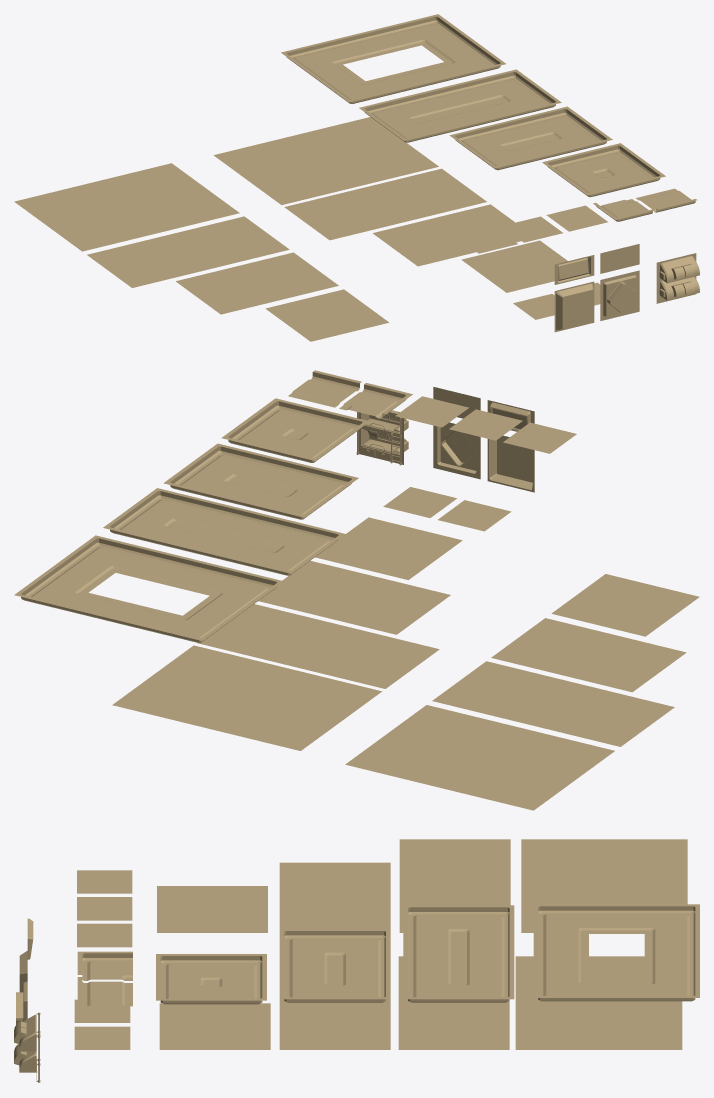
File: Bedroom.fbx
The picture shows the model from 3 angles, top to bottom: view 1: azimuth 30°, elevation 25°; view 2: azimuth 150°, elevation 25°; view 3: azimuth 270°, elevation 25°; orthographic projection. The views are drawn at different scales.
Visible parts, largest first — view 1: BR_v9_5, BR_v8_5, BR_v6_6, BR_v6_5, BR_v9_4, BR_v8_4, BR_v6_4, BR_v9_3, BR_v8_3, BR_v6_3, BR_v9_2, BR_v8_2 (+12 smaller); view 2: BR_v8_5, BR_v9_5, BR_v6_6, BR_v6_5, BR_v9_4, BR_v8_4, BR_v6_4, BR_v9_3, BR_v8_3, BR_v6_3, BR_v9_2, BR_v8_2 (+12 smaller); view 3: BR_v6_6, BR_v9_5, BR_v6_5, BR_v8_5, BR_v6_4, BR_v9_4, BR_v9_3, BR_v8_4, BR_v6_3, BR_v8_3, BR_v9_2, BR_v8_2 (+9 smaller).
Boxes of the visible parts, bbox=[...] form: BR_v9_5: bbox=[14, 163, 239, 251]; BR_v8_5: bbox=[213, 117, 438, 205]; BR_v6_6: bbox=[281, 14, 505, 103]; BR_v6_5: bbox=[359, 69, 561, 142]; BR_v9_4: bbox=[87, 216, 289, 287]; BR_v8_4: bbox=[284, 168, 486, 240]; BR_v6_4: bbox=[449, 106, 612, 170]; BR_v9_3: bbox=[176, 252, 338, 314]; BR_v8_3: bbox=[372, 204, 521, 266]; BR_v6_3: bbox=[542, 143, 665, 197]; BR_v9_2: bbox=[265, 289, 388, 341]; BR_v8_2: bbox=[461, 240, 567, 292]; BR_v8_5: bbox=[112, 645, 381, 750]; BR_v9_5: bbox=[345, 705, 614, 810]; BR_v6_6: bbox=[14, 535, 283, 642]; BR_v6_5: bbox=[103, 488, 345, 575]; BR_v9_4: bbox=[432, 661, 674, 746]; BR_v8_4: bbox=[197, 604, 439, 688]; BR_v6_4: bbox=[163, 443, 358, 519]; BR_v9_3: bbox=[491, 618, 686, 692]; BR_v8_3: bbox=[258, 560, 450, 634]; BR_v6_3: bbox=[221, 398, 369, 462]; BR_v9_2: bbox=[551, 574, 699, 636]; BR_v8_2: bbox=[315, 517, 462, 579]; BR_v6_6: bbox=[533, 904, 699, 1001]; BR_v9_5: bbox=[521, 839, 687, 932]; BR_v6_5: bbox=[403, 905, 514, 1002]; BR_v8_5: bbox=[515, 956, 682, 1049]; BR_v6_4: bbox=[279, 929, 390, 1002]; BR_v9_4: bbox=[399, 839, 510, 932]; BR_v9_3: bbox=[279, 862, 390, 928]; BR_v8_4: bbox=[398, 956, 509, 1049]; BR_v6_3: bbox=[156, 954, 266, 1004]; BR_v8_3: bbox=[279, 999, 390, 1049]; BR_v9_2: bbox=[157, 886, 267, 932]; BR_v8_2: bbox=[159, 1003, 270, 1049].
Bounding box in the file's own units: 33.02 × 5.75 × 37.11.
